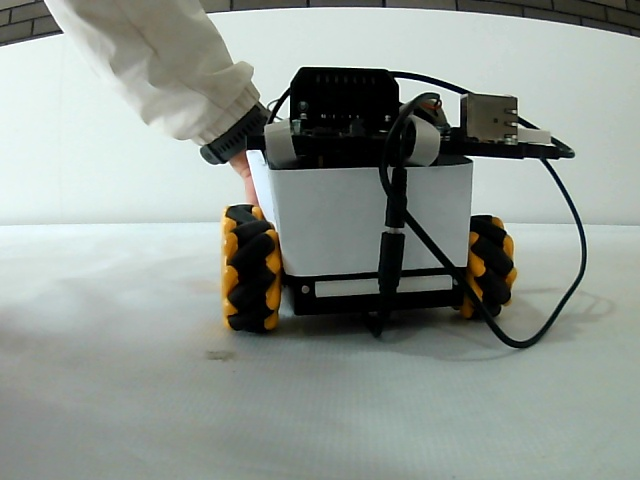car: (213, 68, 516, 329)
paper: (270, 169, 469, 268)
